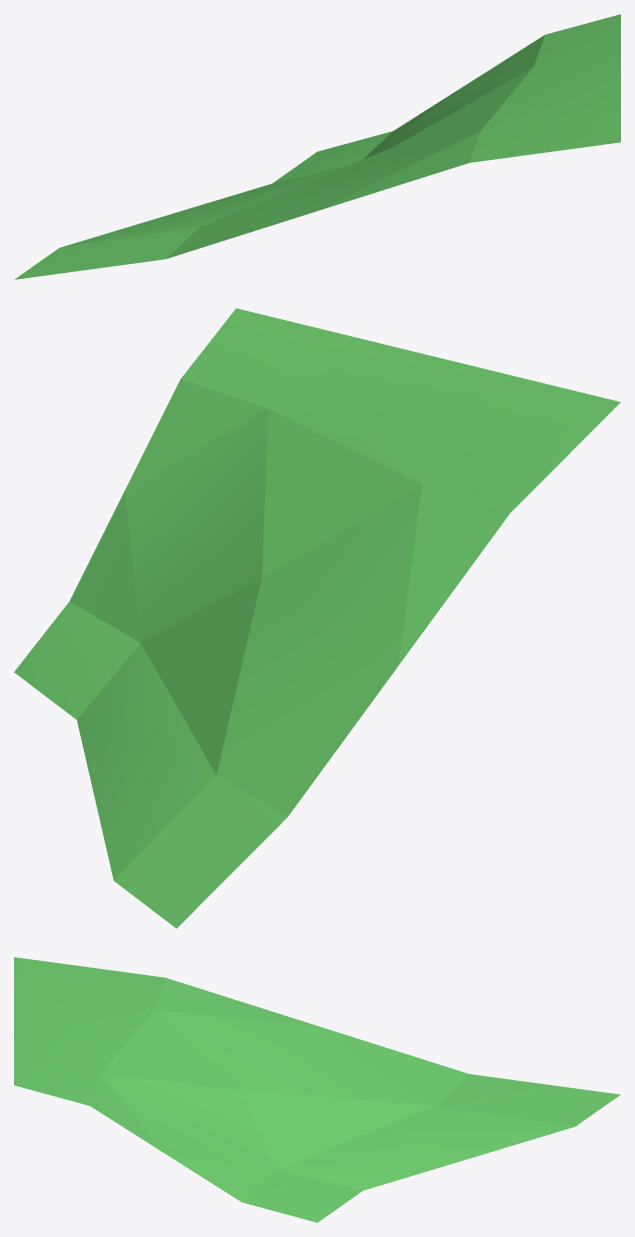
Rendered from Hilly_Terrain_Hill_Transition_Gentle_Sharp_Flush_Crest.glb.
3 views of the same model, one above another, from view 1: azimuth 90°, elevation 25°; view 2: azimuth 150°, elevation 25°; view 3: azimuth 270°, elevation 25° (orthographic). The views are drawn at different scales.
Visible parts, largest first — view 1: Hilly_Terrain_Hill_Transition_Gentle_Sharp_Flush_Crest; view 2: Hilly_Terrain_Hill_Transition_Gentle_Sharp_Flush_Crest; view 3: Hilly_Terrain_Hill_Transition_Gentle_Sharp_Flush_Crest.
Boxes of the visible parts, x1,y1,x2,y2 form: Hilly_Terrain_Hill_Transition_Gentle_Sharp_Flush_Crest: [14, 14, 620, 279]; Hilly_Terrain_Hill_Transition_Gentle_Sharp_Flush_Crest: [14, 308, 620, 928]; Hilly_Terrain_Hill_Transition_Gentle_Sharp_Flush_Crest: [14, 957, 620, 1222].
Bounding box in the file's own units: 0.99 × 0.495 × 1.98.
